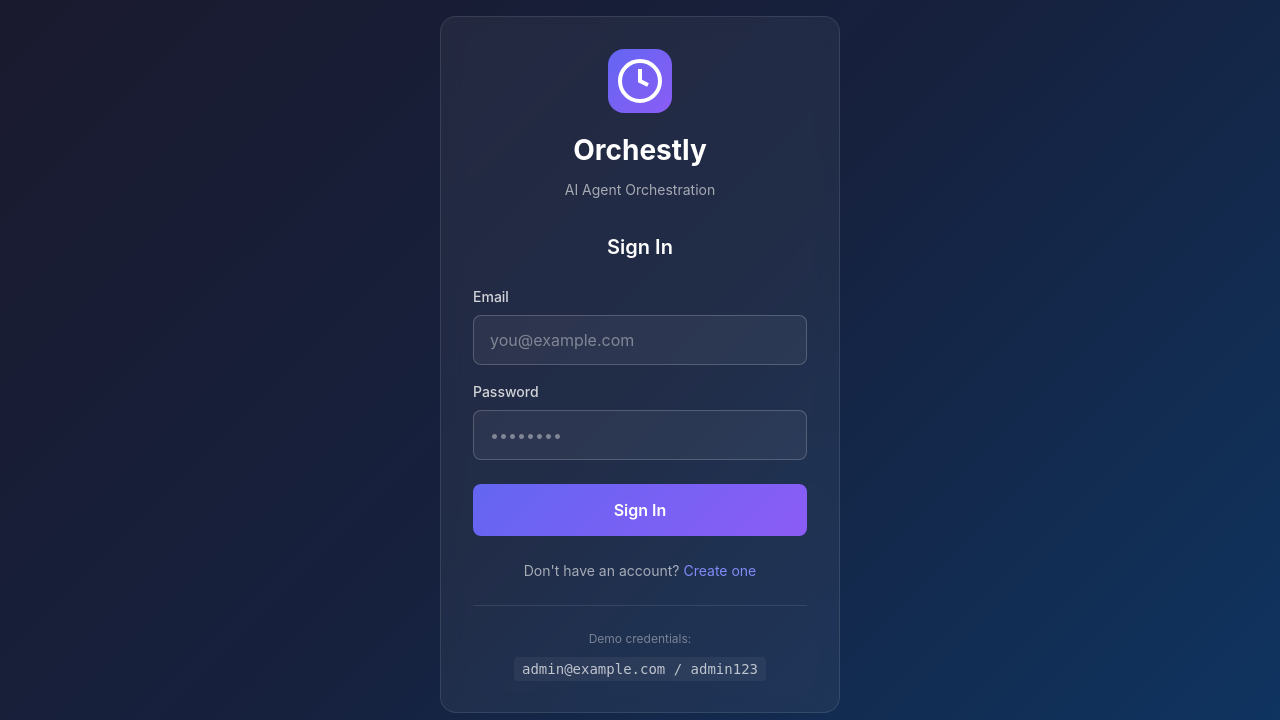
Scenario: LoginPage › Registration Form › toggles back to login mode
// Go to register
Click the button "Create one". click: x=720, y=570
box: [684,560,756,581]
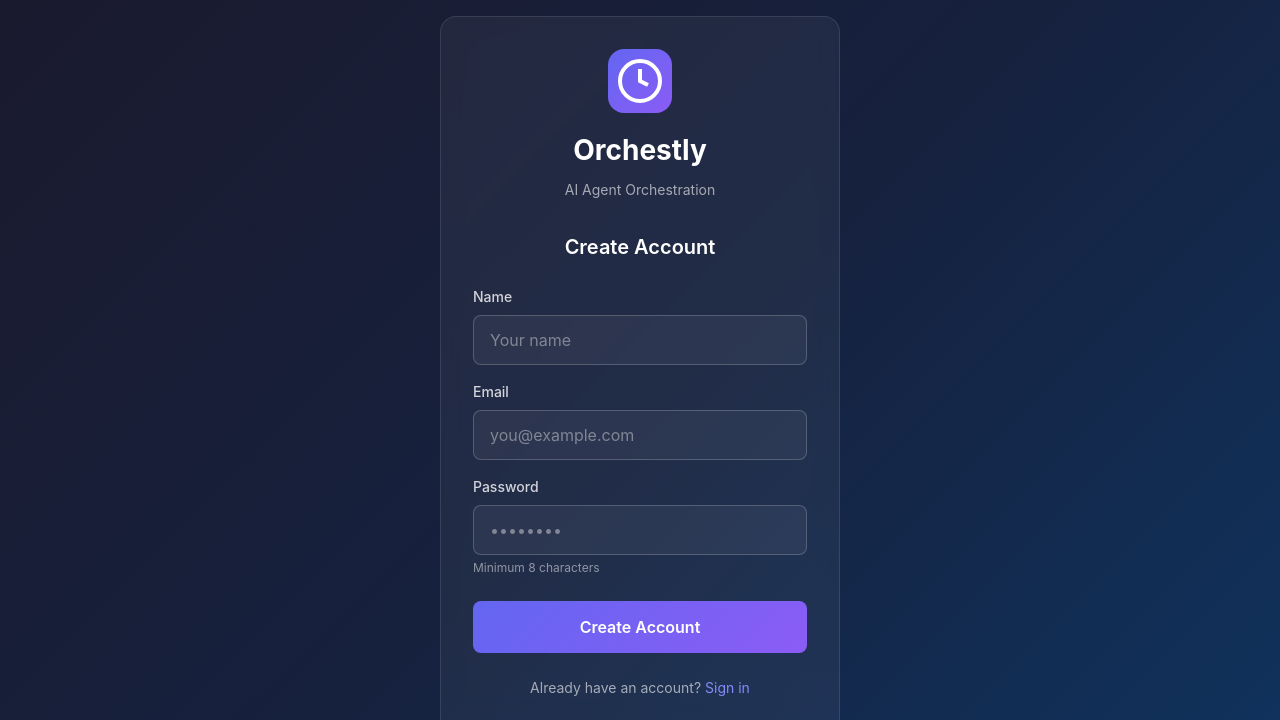
// Go back to login — "Sign in" is the link text (lowercase i)
Click the button "Sign in". click: x=727, y=688
box: [705,677,750,698]
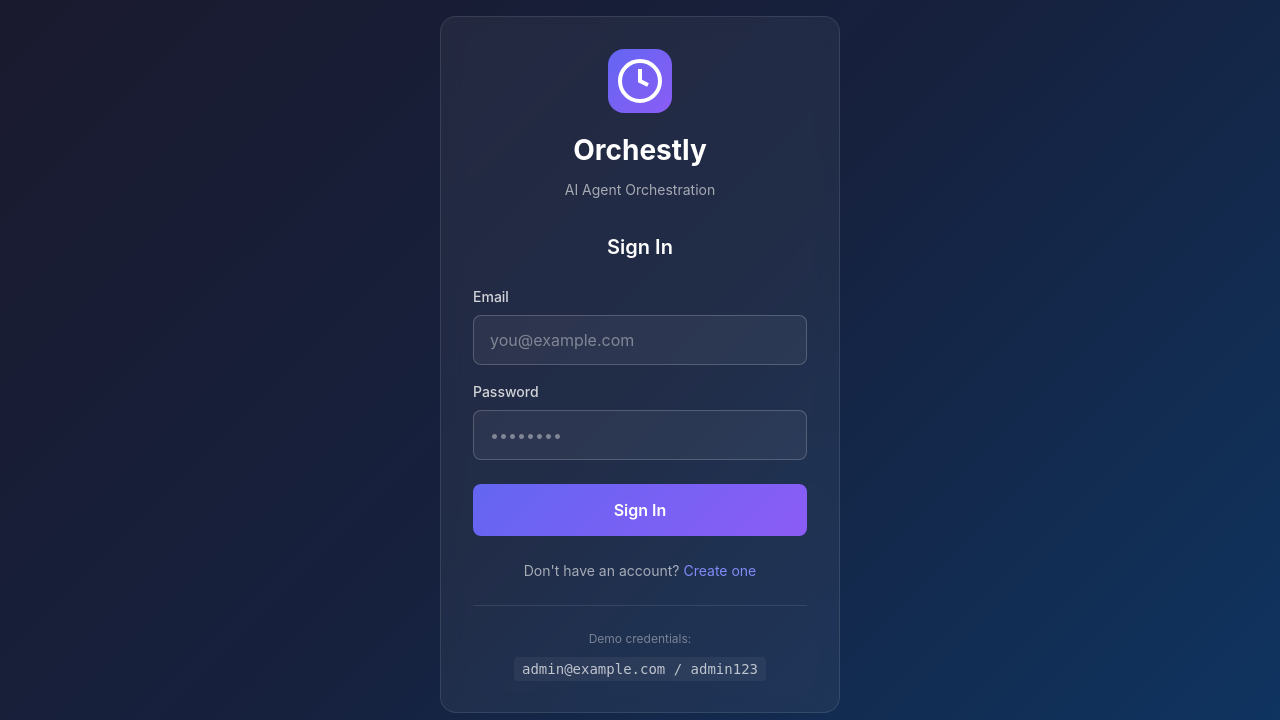
Expected: the label labelled "Name" is gone
